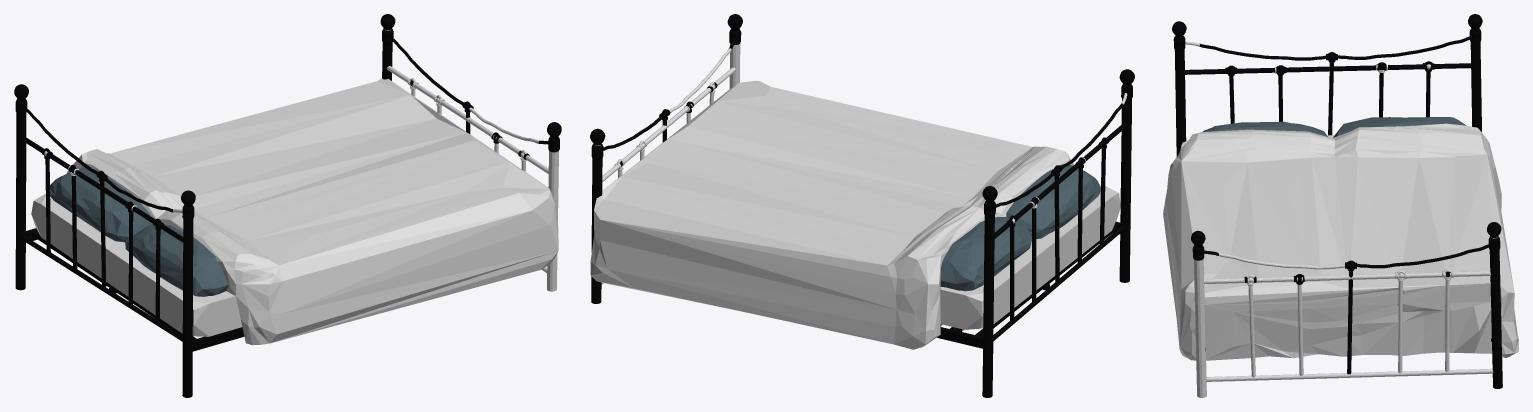
Rendered from bed2.fbx.
The picture shows the model from 3 angles, left to right: view 1: azimuth 30°, elevation 25°; view 2: azimuth 150°, elevation 25°; view 3: azimuth 270°, elevation 25°; orthographic projection. The views are drawn at different scales.
Parts seen in each view (by area): view 1: 6fy_gNjoqGU_1_0_0, 6fy_gNjoqGU_2_0_0, 6fy_gNjoqGU_0_0_0, 6fy_gNjoqGU_3_0_0; view 2: 6fy_gNjoqGU_1_0_0, 6fy_gNjoqGU_2_0_0, 6fy_gNjoqGU_0_0_0, 6fy_gNjoqGU_3_0_0; view 3: 6fy_gNjoqGU_1_0_0, 6fy_gNjoqGU_0_0_0, 6fy_gNjoqGU_2_0_0, 6fy_gNjoqGU_3_0_0.
Part boxes in pixels (left/top/right/bottom): 6fy_gNjoqGU_1_0_0: left=44, top=29, right=558, bottom=345; 6fy_gNjoqGU_2_0_0: left=31, top=14, right=561, bottom=336; 6fy_gNjoqGU_0_0_0: left=14, top=37, right=548, bottom=397; 6fy_gNjoqGU_3_0_0: left=50, top=102, right=529, bottom=296; 6fy_gNjoqGU_1_0_0: left=590, top=43, right=1127, bottom=349; 6fy_gNjoqGU_2_0_0: left=590, top=14, right=1123, bottom=329; 6fy_gNjoqGU_0_0_0: left=595, top=38, right=1134, bottom=397; 6fy_gNjoqGU_3_0_0: left=659, top=82, right=1100, bottom=291; 6fy_gNjoqGU_1_0_0: left=1163, top=41, right=1518, bottom=397; 6fy_gNjoqGU_0_0_0: left=1172, top=14, right=1491, bottom=350; 6fy_gNjoqGU_2_0_0: left=1181, top=43, right=1502, bottom=388; 6fy_gNjoqGU_3_0_0: left=1203, top=117, right=1466, bottom=283.
Bounding box in the file's own units: 1.21 × 0.5874 × 0.9368.
